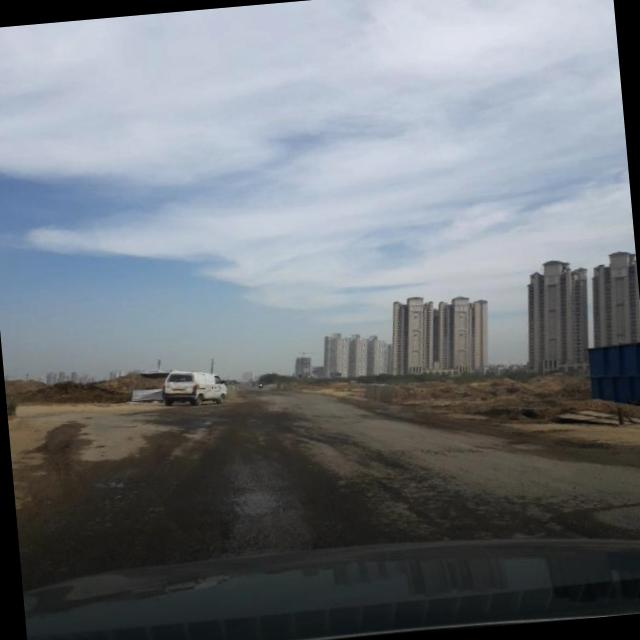crack: (332, 434, 624, 550)
